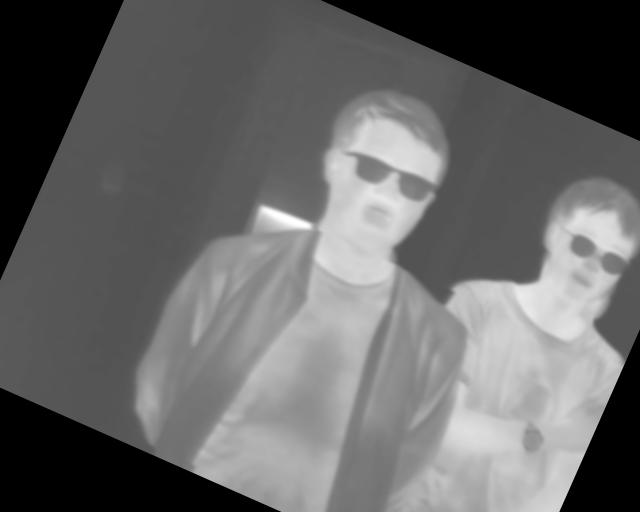face: (290, 69, 472, 269), (519, 161, 640, 317)
